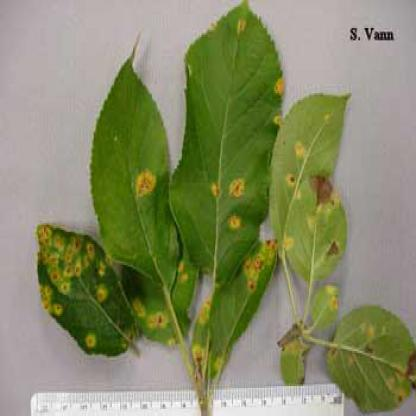Apple rust leaf: (165, 2, 289, 300), (84, 47, 188, 305), (272, 81, 358, 309), (27, 216, 137, 365), (317, 302, 415, 412)
